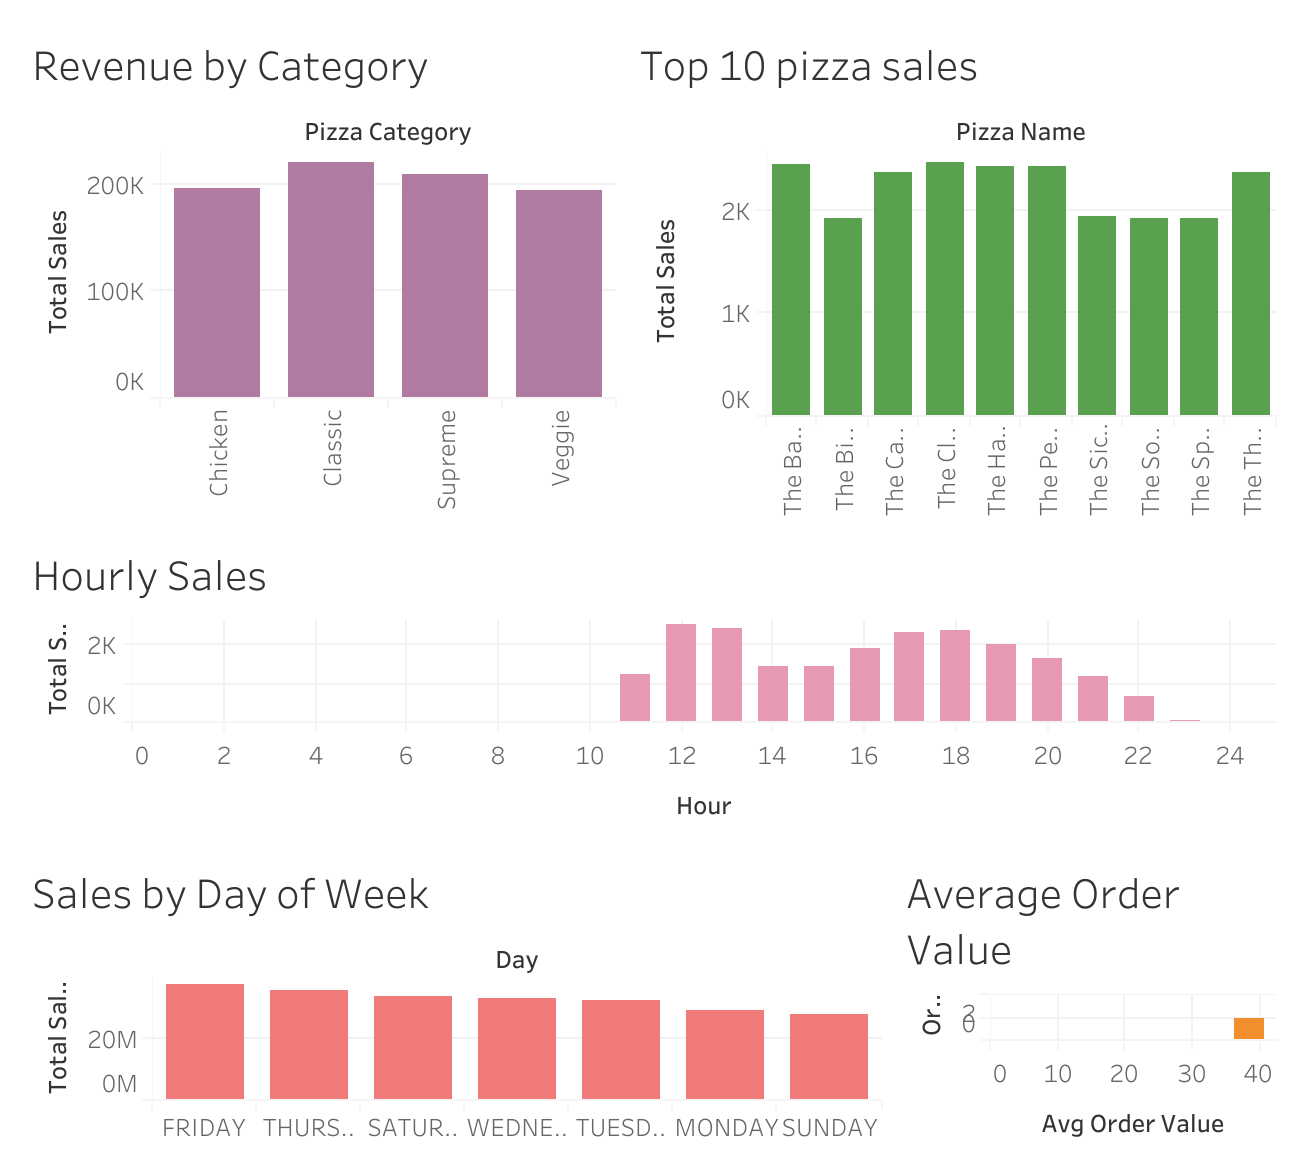

What the dashboard file says about the page in this screenshot:
{"tool":"tableau","page":{"name":"Dashboard 1","canvas":[650,860],"ordinal":0},"visuals":[{"type":"worksheet","title":"Sheet 3","mark":"Automatic","rows":["total_sales"],"cols":["pizza_category"],"box":[8,10.9,304,372.7]},{"type":"worksheet","title":"Sheet 4","mark":"Automatic","rows":["total_sales"],"cols":["pizza_name"],"box":[312,10.9,330,372.7]},{"type":"worksheet","title":"Sheet 1","mark":"Bar","rows":["total_sales"],"cols":["hour"],"box":[8,383.6,634,233.4]},{"type":"worksheet","title":"Sheet 5","mark":"Automatic","rows":["total_sales"],"cols":["day"],"box":[8,617,437,232.1]},{"type":"worksheet","title":"Sheet 2","mark":"Bar","rows":["avg_order_vale.csv_E86330EC66A342E4B5AA7D5B5804ACB6"],"cols":["avg_order_value"],"box":[445,617,197,232.1]}]}

Visuals, with their boxes on the page's 650x860 design canvas (x1, y1, x2, y2). These are canvas units, not pixel positions in the 1298x1176 screenshot, which may show the page scaled, cropped or inside an application window:
"Sheet 3" worksheet: box=[8, 11, 312, 384]
"Sheet 4" worksheet: box=[312, 11, 642, 384]
"Sheet 1" worksheet (Bar marks): box=[8, 384, 642, 617]
"Sheet 5" worksheet: box=[8, 617, 445, 849]
"Sheet 2" worksheet (Bar marks): box=[445, 617, 642, 849]
